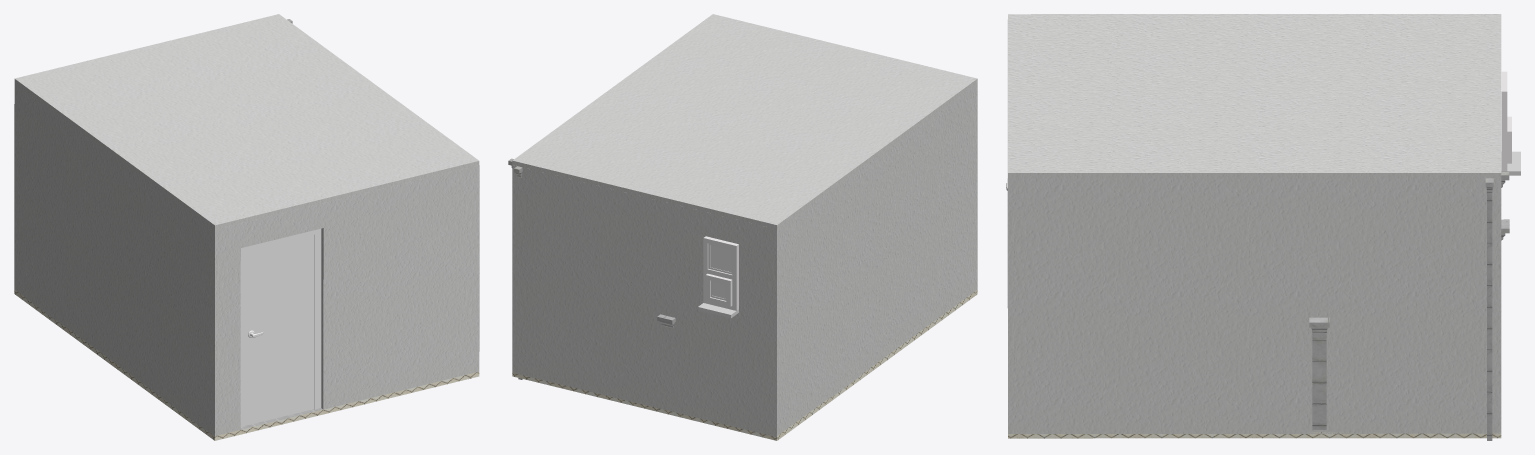
The model's file is FloorPlan417_physics.fbx.
3 views of the same model, side by side, from view 1: azimuth 30°, elevation 25°; view 2: azimuth 150°, elevation 25°; view 3: azimuth 270°, elevation 25° (orthographic). The views are drawn at different scales.
Parts seen in each view (by area): view 1: FP417:Walls, FP417:Ceiling, FP417:Door.013, FP417:Floor, FP417:DoorFrame.013; view 2: FP417:Walls, FP417:Ceiling, FP417:Floor, FP417:polySurface89, FP417:polySurface85; view 3: FP417:Walls, FP417:Ceiling, FP417:polySurface107, FP417:Floor, FP417:polySurface89.
Boxes of the visible parts, bbox=[...] form: FP417:Walls: bbox=[14, 84, 479, 436]; FP417:Ceiling: bbox=[14, 14, 479, 229]; FP417:Door.013: bbox=[245, 235, 314, 425]; FP417:Floor: bbox=[14, 289, 479, 440]; FP417:DoorFrame.013: bbox=[240, 228, 321, 427]; FP417:Walls: bbox=[512, 83, 977, 436]; FP417:Ceiling: bbox=[512, 14, 977, 229]; FP417:Floor: bbox=[512, 290, 977, 440]; FP417:polySurface89: bbox=[698, 236, 738, 318]; FP417:polySurface85: bbox=[710, 245, 731, 298]; FP417:Walls: bbox=[1007, 19, 1501, 433]; FP417:Ceiling: bbox=[1008, 14, 1501, 178]; FP417:polySurface107: bbox=[1309, 172, 1509, 440]; FP417:Floor: bbox=[1008, 432, 1501, 438]; FP417:polySurface89: bbox=[1501, 71, 1520, 175].
Size of the model in its own units: 330 by 251 by 438.
